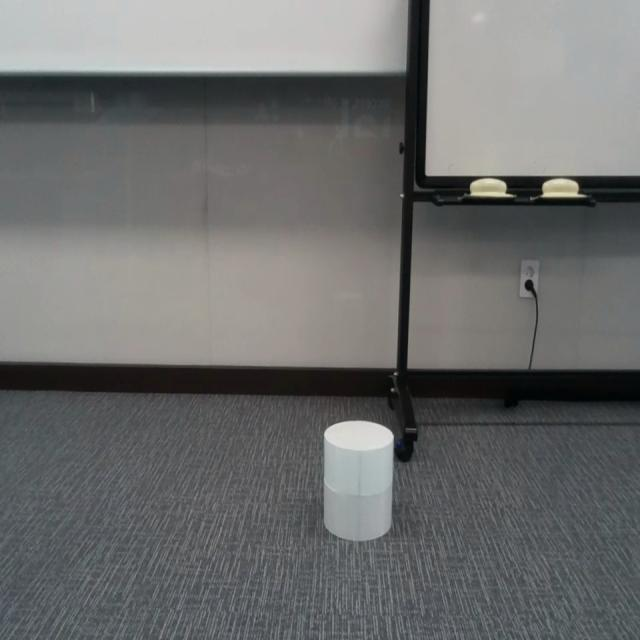cylinder: (323, 418, 394, 540)
